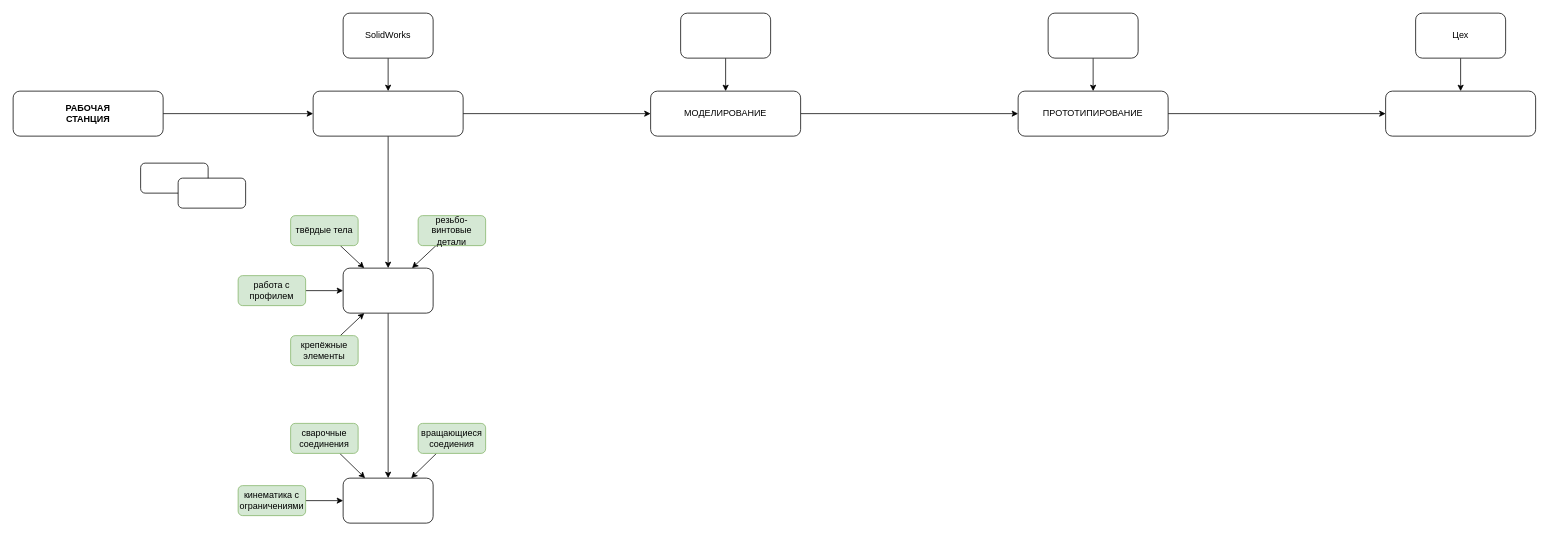
The diagram is 1549 pixels wide and 536 high, and some of its shapes have lost their labels. The shapes that lost their labels are listed below. From the top down, each one's centre as x and y in pixels, then its label:
At [725,35]: "3D Принтер".
At [1092,35]: "Мастерская".
At [387,113]: "ПРОЕКТИРОВАНИЕ".
At [1460,113]: "ПРОИЗВОДСТВО".
At [387,290]: "проектирование отдельных деталей".
At [387,500]: "построение сборки".
